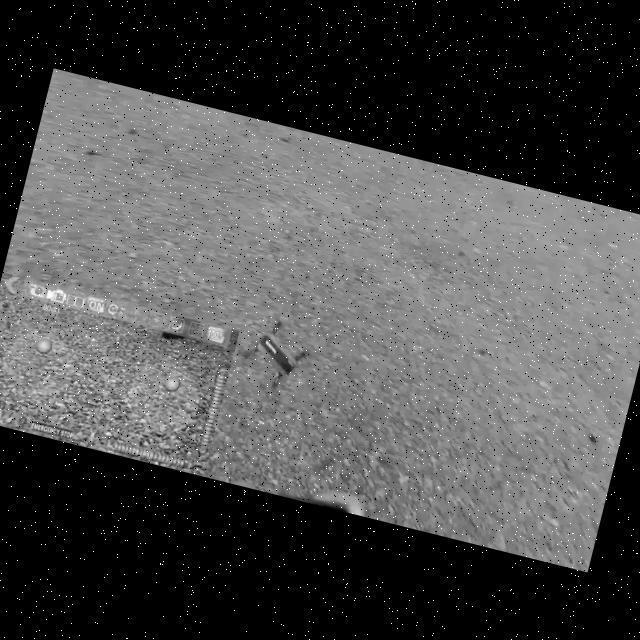Drons: (222, 306, 332, 404)
